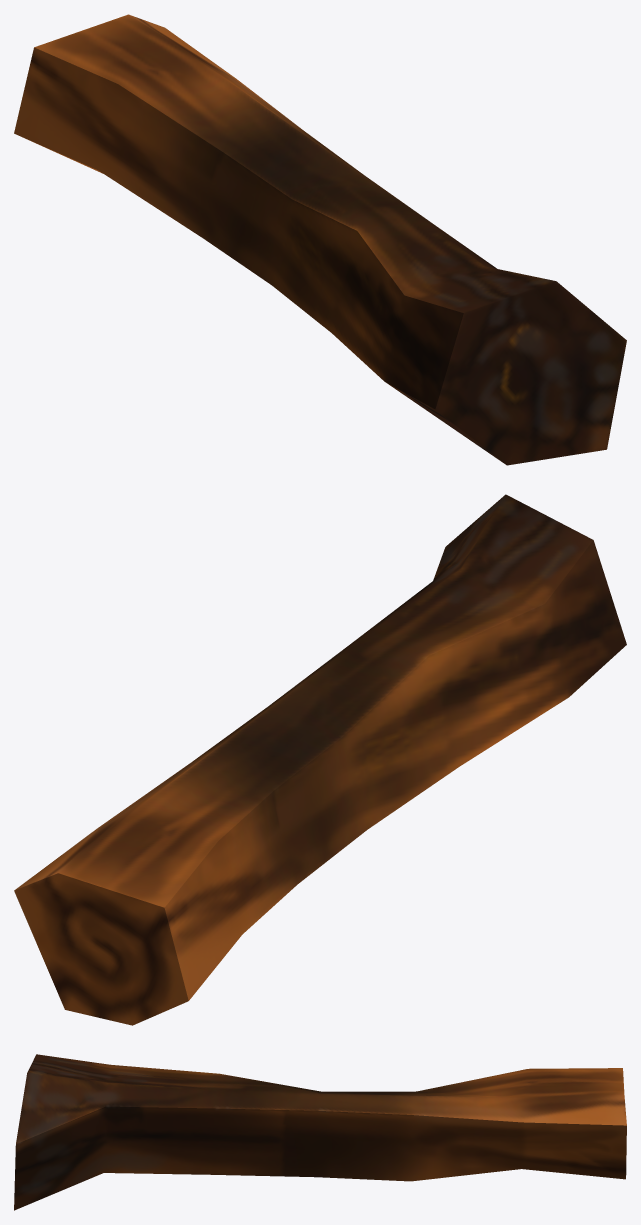
The model's file is assets_same_uvset_tronco_quemado_chico.fbx.
3 views of the same model, one above another, from view 1: azimuth 30°, elevation 25°; view 2: azimuth 150°, elevation 25°; view 3: azimuth 270°, elevation 25° (orthographic). The views are drawn at different scales.
Visible parts, largest first — view 1: assets_same_uvset:tronco_quemado_chico; view 2: assets_same_uvset:tronco_quemado_chico; view 3: assets_same_uvset:tronco_quemado_chico.
Boxes of the visible parts, x1=… form: assets_same_uvset:tronco_quemado_chico: x1=14, y1=14, x2=626, y2=465; assets_same_uvset:tronco_quemado_chico: x1=14, y1=494, x2=626, y2=1025; assets_same_uvset:tronco_quemado_chico: x1=14, y1=1054, x2=626, y2=1210.
Bounding box in the file's own units: 1.71 × 1.47 × 6.65.
1 material, 1 textured.
